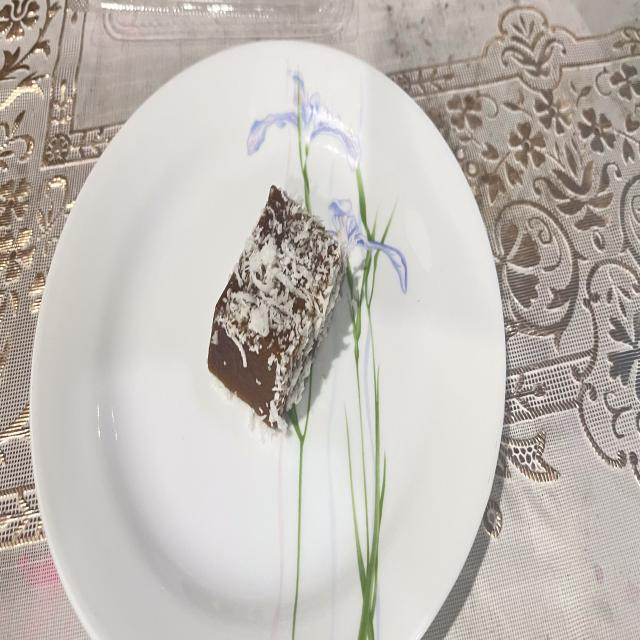kaswi: (208, 187, 346, 429)
